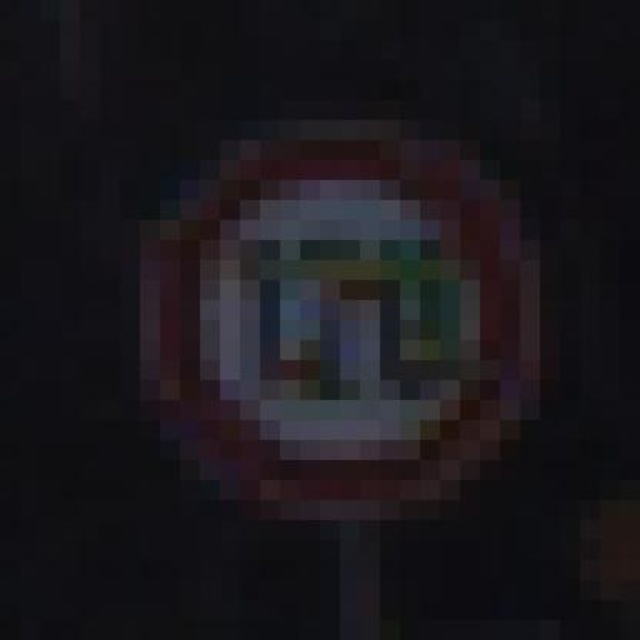Tốc độ tối đa cho phép 120km/h: (152, 140, 529, 497)
